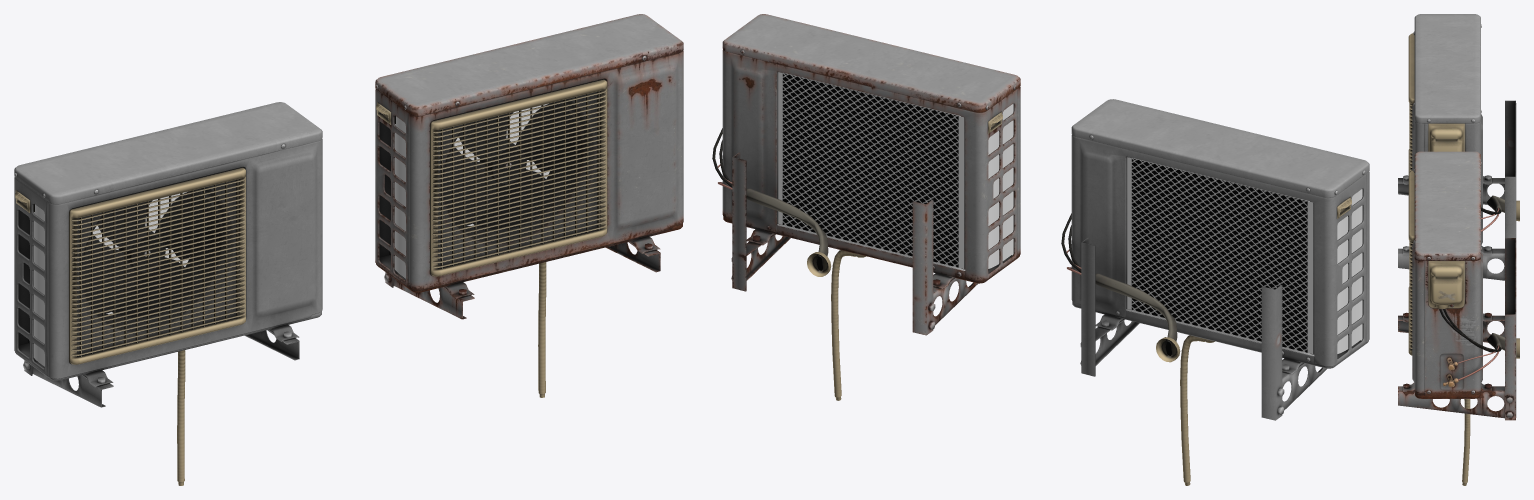
The model's file is exterior_aircon_unit_1k.gltf.
The picture shows the model from 3 angles, left to right: view 1: azimuth 30°, elevation 25°; view 2: azimuth 150°, elevation 25°; view 3: azimuth 270°, elevation 25°; orthographic projection. The views are drawn at different scales.
Parts seen in each view (by area): view 1: exterior_aircon_unit, exterior_aircon_unit_rusted; view 2: exterior_aircon_unit, exterior_aircon_unit_rusted; view 3: exterior_aircon_unit_rusted, exterior_aircon_unit.
Part boxes in pixels (left/top/right/bottom): exterior_aircon_unit: left=14, top=102, right=322, bottom=485; exterior_aircon_unit_rusted: left=375, top=14, right=683, bottom=397; exterior_aircon_unit: left=1061, top=99, right=1369, bottom=485; exterior_aircon_unit_rusted: left=712, top=14, right=1020, bottom=400; exterior_aircon_unit_rusted: left=1398, top=151, right=1519, bottom=485; exterior_aircon_unit: left=1398, top=14, right=1519, bottom=280.
Size of the model in its own units: 1.8 by 0.9279 by 0.3741.
Materials: 4 (4 with a texture image).
